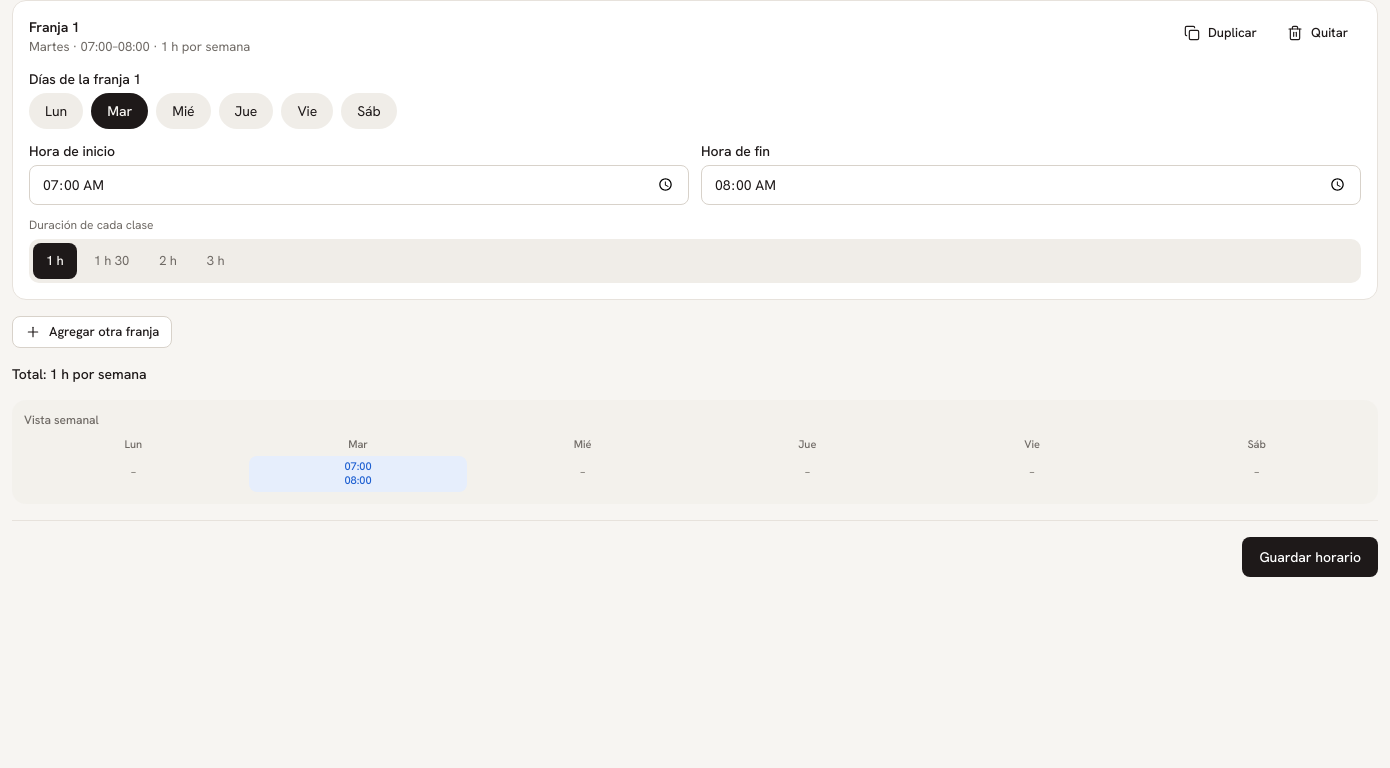
HorarioEditor (franjas) › avisa de cambios sin guardar al contenedor, los muestra en la barra y se pueden descartar
Expected: the text "Cambios sin guardar" is not shown
Click the button named "Miércoles". click: (183,110)
box: [156, 92, 211, 128]
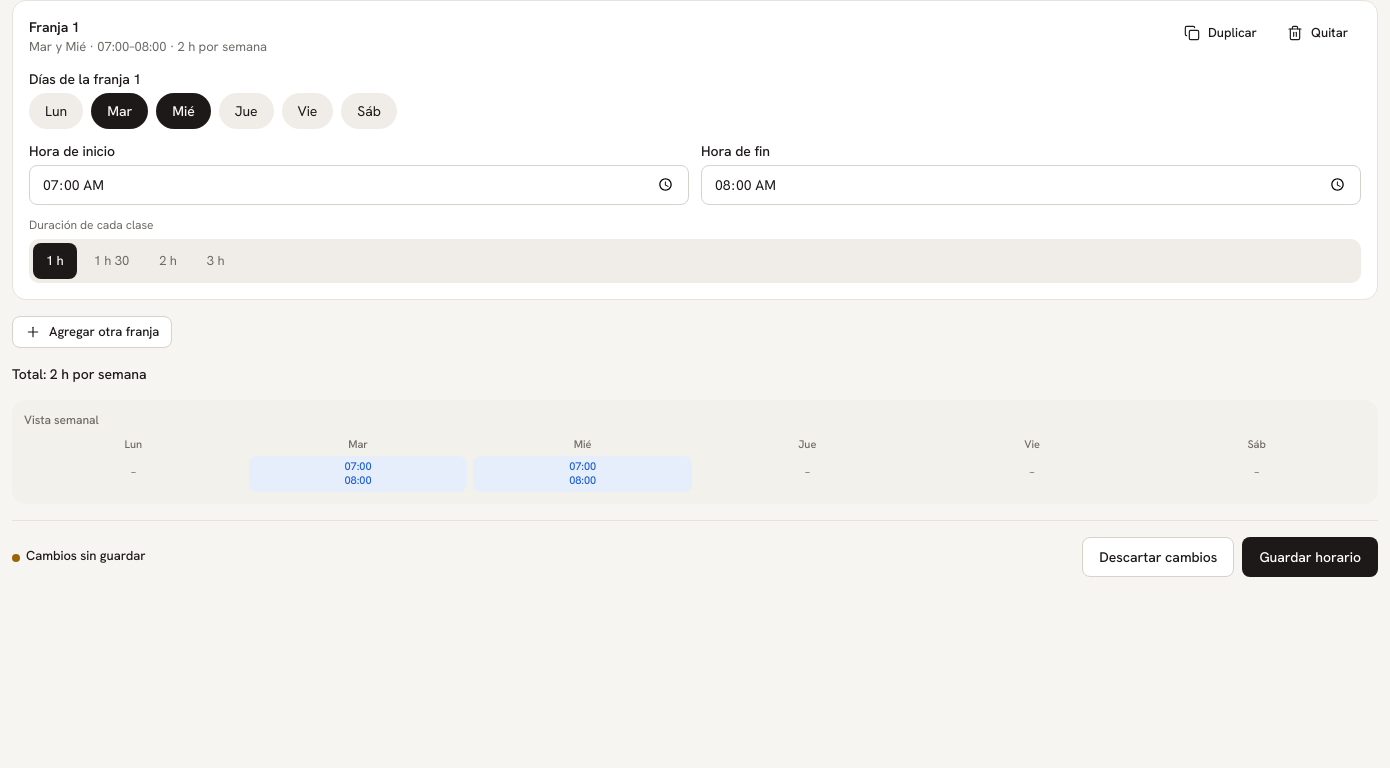
Now the text "Cambios sin guardar" is shown, box [26, 547, 146, 566]
Click the button "Descartar cambios". click: (1158,556)
box: [1082, 536, 1234, 576]
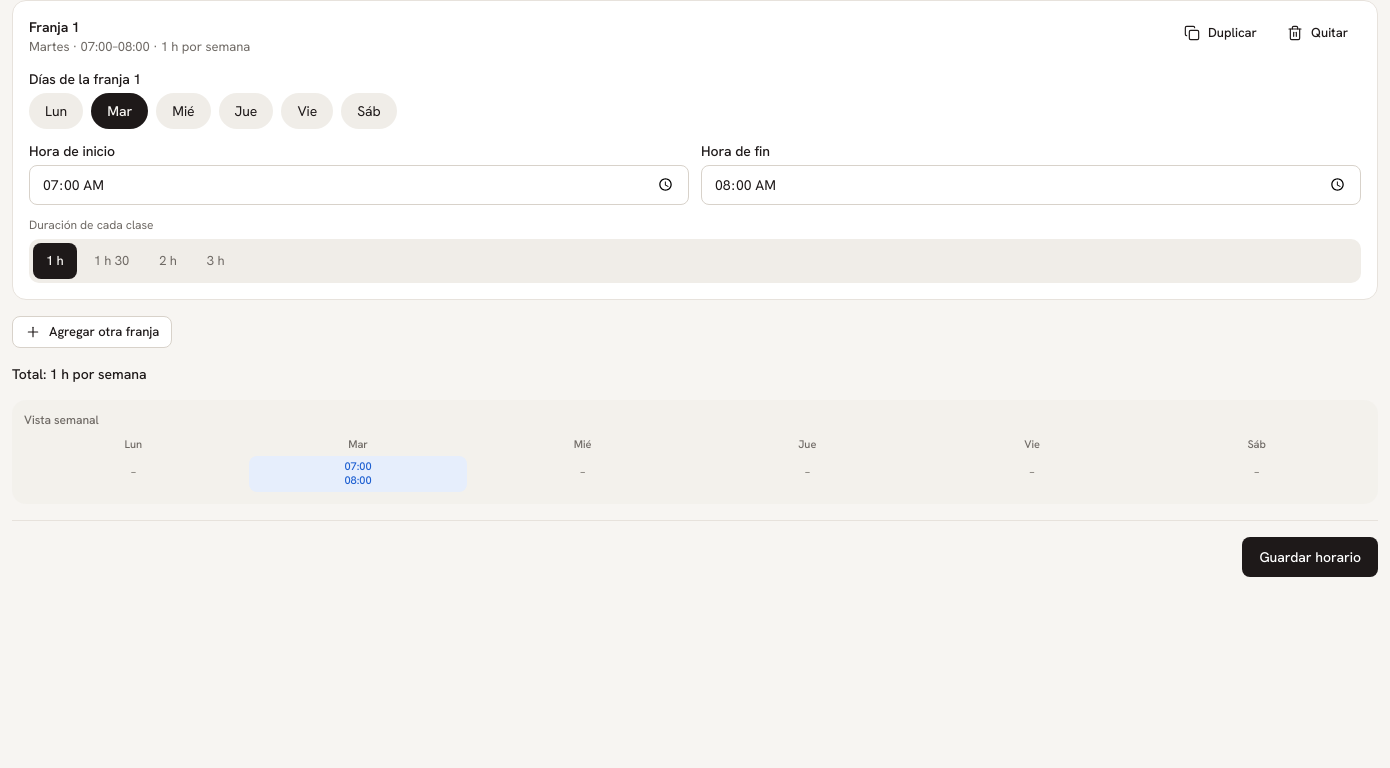
Now the text "Cambios sin guardar" is gone
